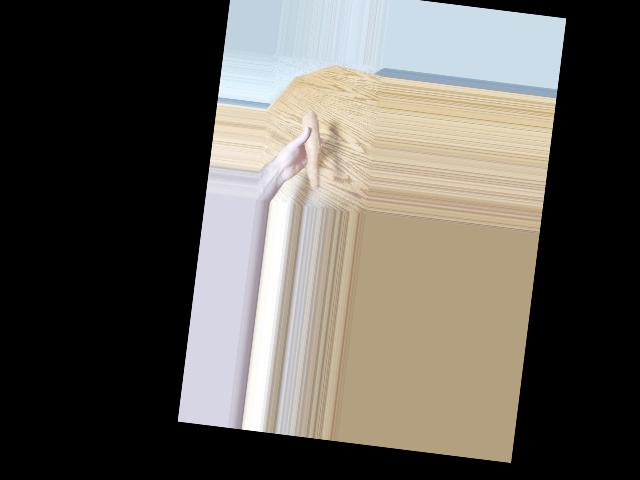sweet_potato: (300, 111, 324, 189)
